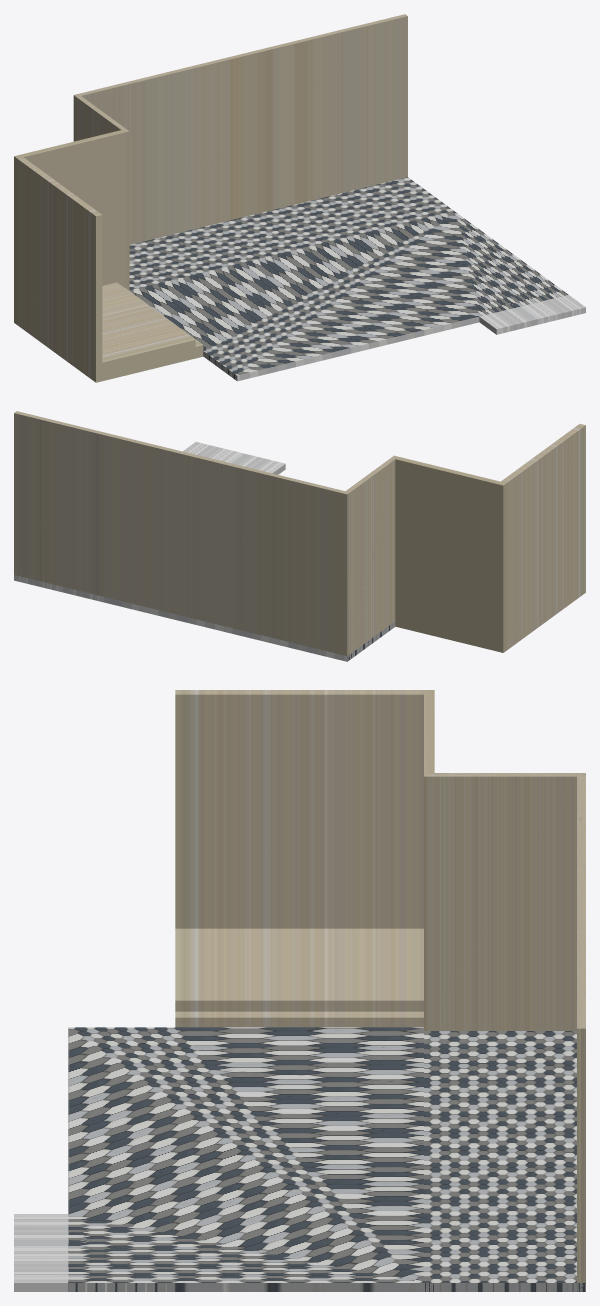
File: Iglesia-Estructura.fbx
3 renders of one model, top to bottom at view 1: azimuth 30°, elevation 25°; view 2: azimuth 150°, elevation 25°; view 3: azimuth 270°, elevation 25°, orthographic. The views are drawn at different scales.
Visible parts, largest first — view 1: Iglesia; view 2: Iglesia; view 3: Iglesia.
Part boxes in pixels (x1,y1,x2,y2): Iglesia: [14, 14, 585, 382]; Iglesia: [14, 411, 585, 661]; Iglesia: [14, 690, 585, 1291].
Size of the model in its own units: 19.63 by 7.12 by 14.01.
